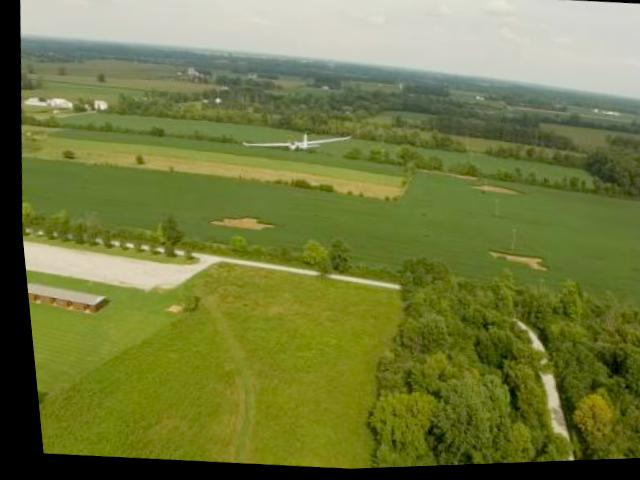uav: (232, 117, 361, 169)
